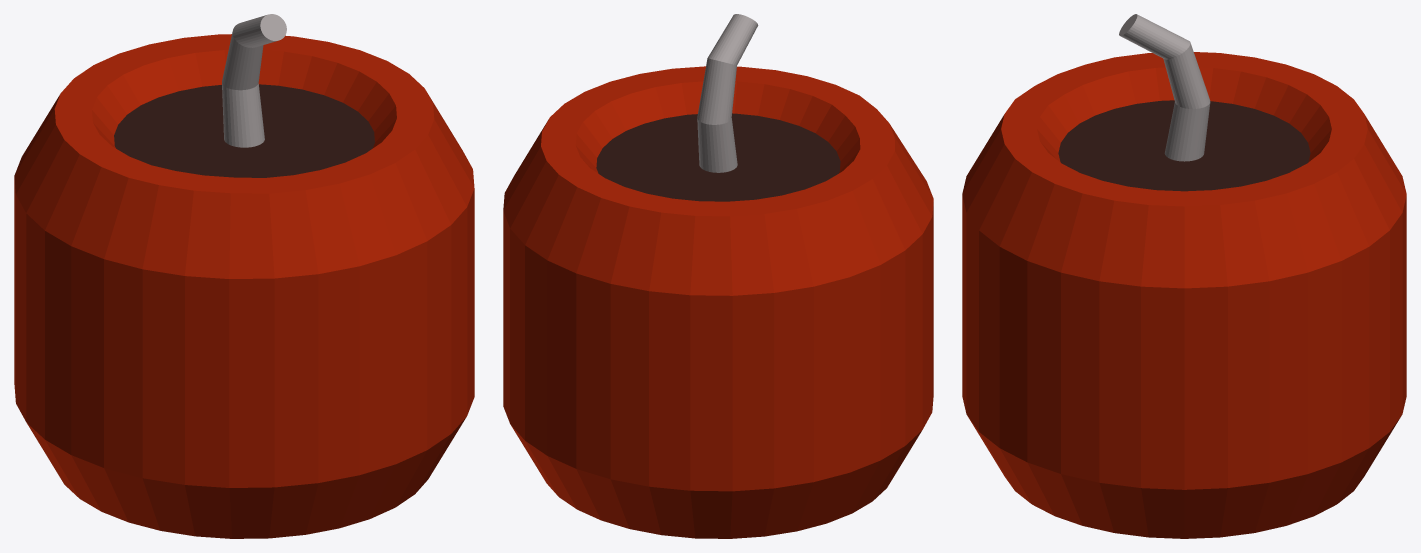
Rendered from TNT.fbx.
3 views of the same model, side by side, from view 1: azimuth 30°, elevation 25°; view 2: azimuth 150°, elevation 25°; view 3: azimuth 270°, elevation 25° (orthographic). The views are drawn at different scales.
Parts seen in each view (by area): view 1: Cylinder; view 2: Cylinder; view 3: Cylinder.
Part boxes in pixels (left/top/right/bottom): Cylinder: left=14, top=14, right=474, bottom=538; Cylinder: left=503, top=14, right=933, bottom=538; Cylinder: left=962, top=14, right=1406, bottom=538.
Size of the model in its own units: 242 by 268 by 242.
